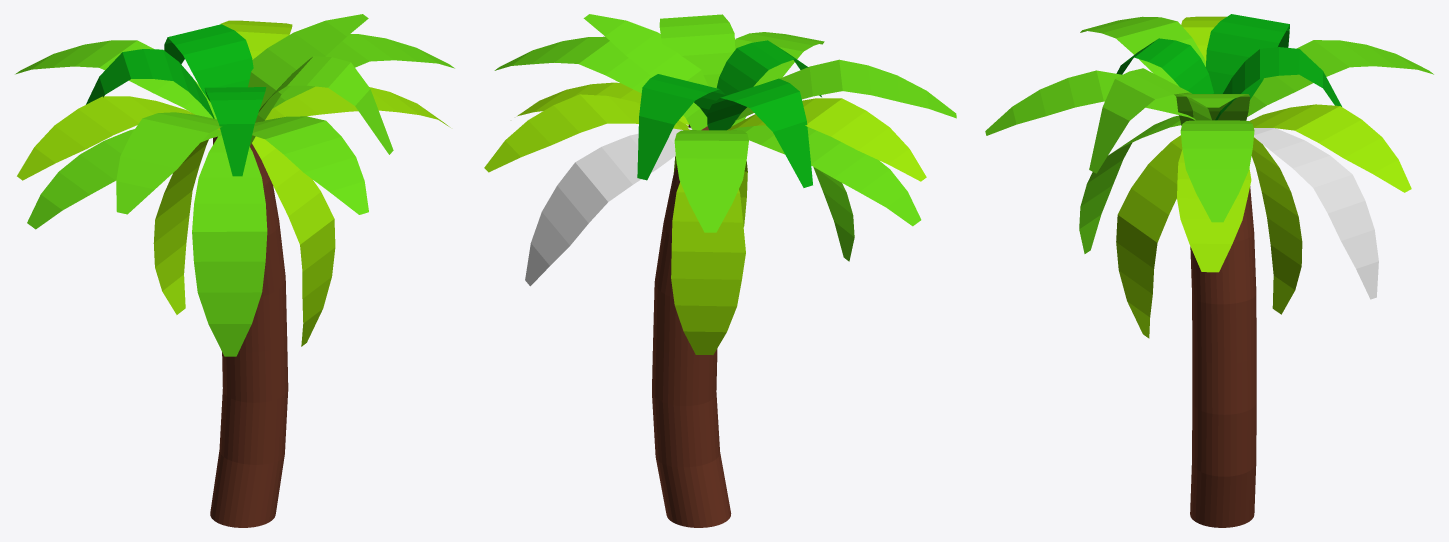
Rendered from tree4.fbx.
3 renders of one model, left to right at view 1: azimuth 30°, elevation 25°; view 2: azimuth 150°, elevation 25°; view 3: azimuth 270°, elevation 25°, orthographic.
Parts seen in each view (by area): view 1: Cylinder.001, Plane.010, Plane.005, Plane.011, Plane.013, Plane.002, Plane.017, Plane.020, Plane.019, Plane.015, Plane.003, Plane.006 (+5 smaller); view 2: Cylinder.001, Plane.017, Plane.004, Plane.003, Plane.015, Plane.012, Plane.007, Plane.002, Plane.011, Plane.019, Plane.020, Plane.006 (+5 smaller); view 3: Cylinder.001, Plane.005, Plane.004, Plane, Plane.012, Plane.017, Plane.006, Plane.007, Plane.003, Plane.016, Plane.013, Plane.019 (+5 smaller).
Part boxes in pixels (x1,y1,x2,y2): Cylinder.001: (210,136,288,527); Plane.010: (192,135,267,356); Plane.005: (252,136,335,346); Plane.011: (116,112,221,214); Plane.013: (252,116,368,214); Plane.002: (17,96,220,180); Plane.017: (153,139,208,314); Plane.020: (248,14,368,146); Plane.019: (164,24,253,98); Plane.015: (27,129,221,229); Plane.003: (15,40,216,119); Plane.006: (258,56,393,154); Cylinder.001: (652,124,731,527); Plane.017: (671,182,745,354); Plane.004: (525,127,692,286); Plane.003: (674,130,748,232); Plane.015: (731,125,921,226); Plane.012: (484,94,689,172); Plane.007: (707,78,812,187); Plane.002: (727,98,926,181); Plane.011: (735,59,956,120); Plane.019: (637,74,726,180); Plane.020: (583,14,707,130); Plane.006: (659,14,735,88); Cylinder.001: (1190,186,1256,527); Plane.005: (1116,135,1182,338); Plane.004: (1254,128,1378,299); Plane: (1180,120,1254,222); Plane.012: (1249,104,1411,192); Plane.017: (1251,137,1302,314); Plane.006: (1089,68,1211,173); Plane.007: (1205,14,1289,99); Plane.003: (1247,40,1433,116); Plane.016: (1177,150,1251,272); Plane.013: (985,70,1195,135); Plane.019: (1215,47,1341,120).
Size of the model in its own units: 557 by 581 by 511.
